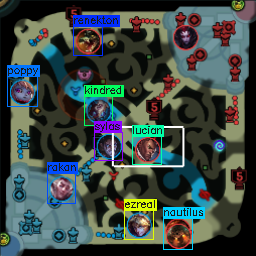ezreal: (128, 213, 151, 237)
kindred: (86, 100, 110, 123)
lucian: (136, 137, 159, 161)
nautilus: (165, 224, 191, 248)
poppy: (9, 78, 34, 103)
rakan: (50, 176, 75, 200)
renekton: (173, 25, 198, 50), (76, 28, 100, 53)
sylas: (97, 135, 121, 157)
